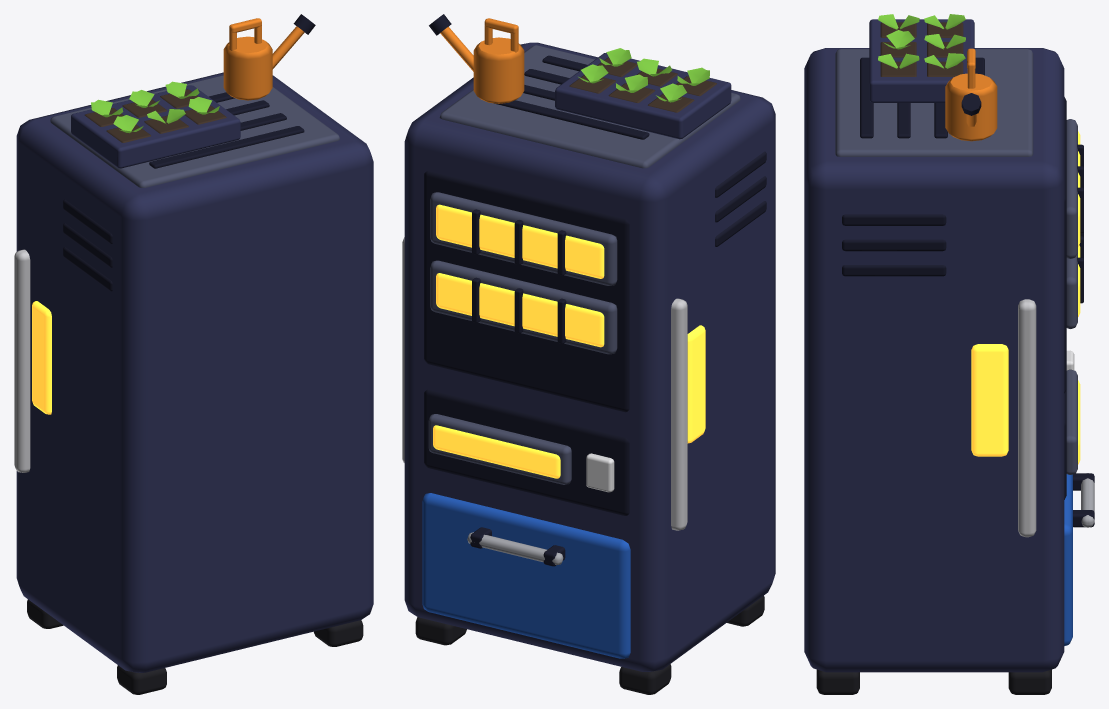
The model's file is prop.props_workrooms.cabinet_dark.glb.
3 views of the same model, side by side, from view 1: azimuth 30°, elevation 25°; view 2: azimuth 150°, elevation 25°; view 3: azimuth 270°, elevation 25° (orthographic). The views are drawn at different scales.
Parts seen in each view (by area): view 1: prop.props_workrooms.cabinet_dark; view 2: prop.props_workrooms.cabinet_dark; view 3: prop.props_workrooms.cabinet_dark.
Part boxes in pixels (left/top/right/bottom): prop.props_workrooms.cabinet_dark: left=14, top=14, right=373, bottom=694; prop.props_workrooms.cabinet_dark: left=402, top=14, right=775, bottom=694; prop.props_workrooms.cabinet_dark: left=804, top=14, right=1094, bottom=694.
Bounding box in the file's own units: 0.5413 × 1.1 × 0.469.
